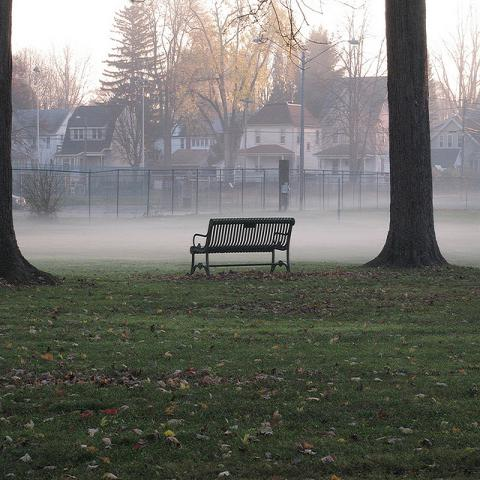car: (12, 194, 26, 210)
